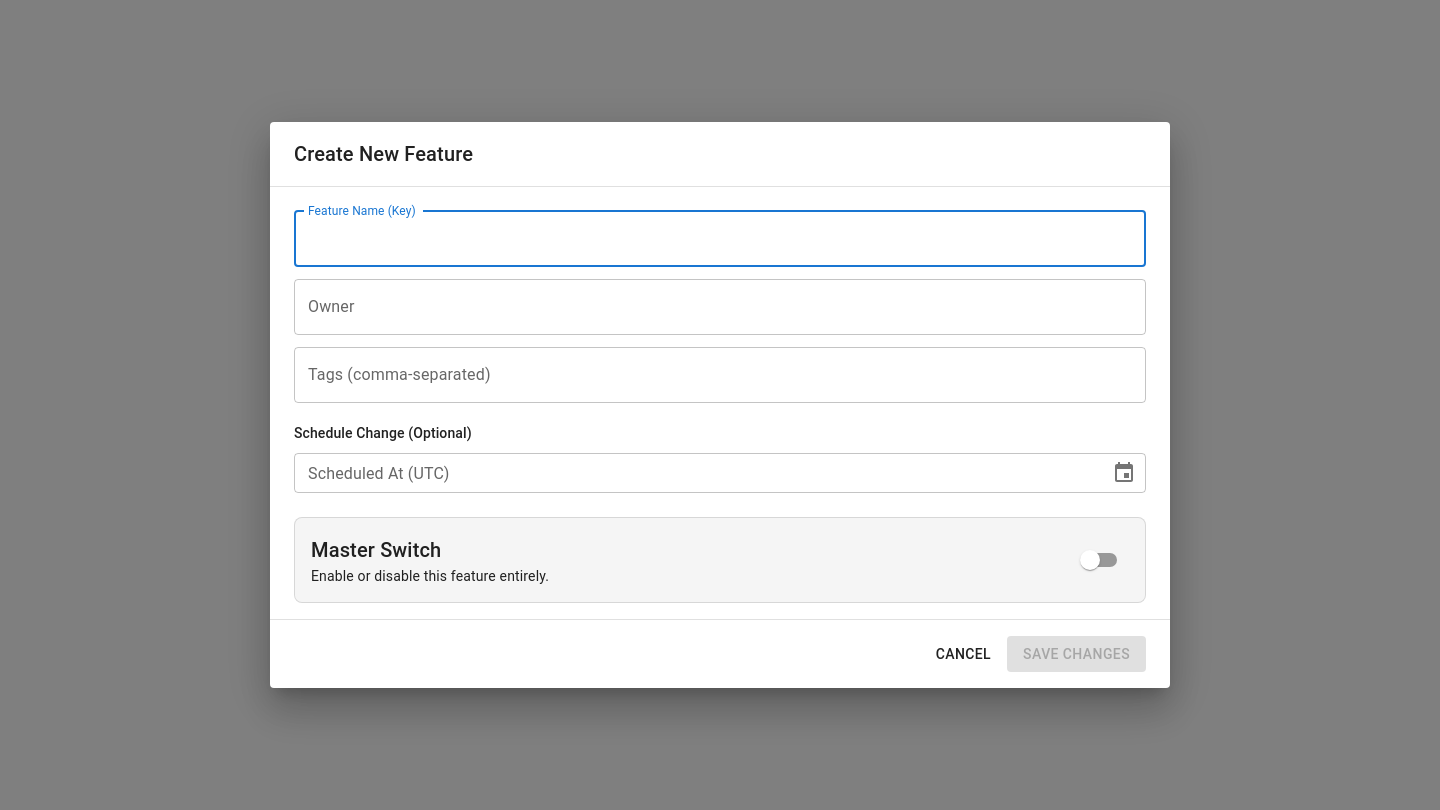
Test case: FeatureDialog › toggles advanced rules block with the master switch
Expected: the text "Advanced Targeting Rules" is not shown
Step 1. Click the switch → (1090, 560), box [1080,550,1100,570]
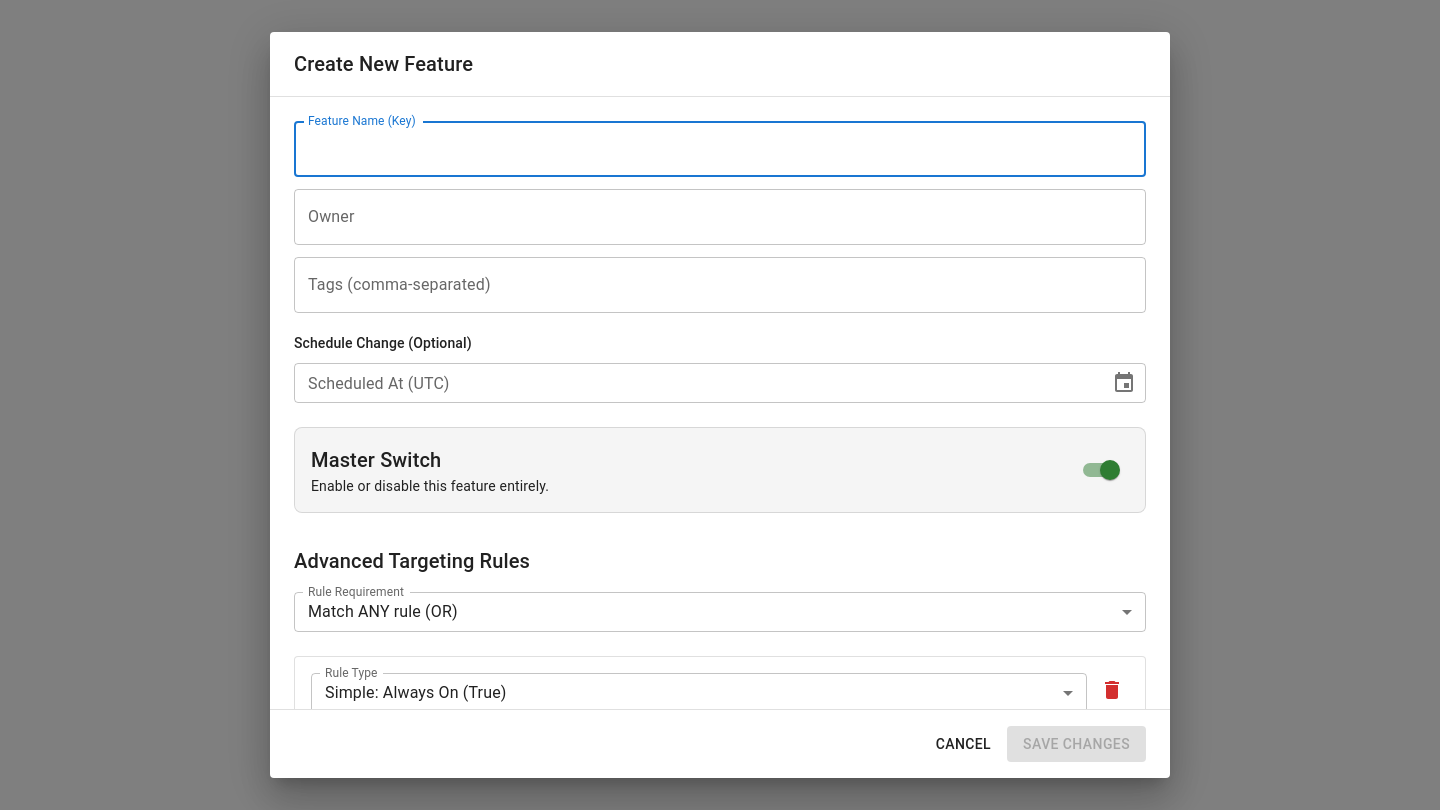
Now the heading "Advanced Targeting Rules" is shown, box [294,549,530,573]
